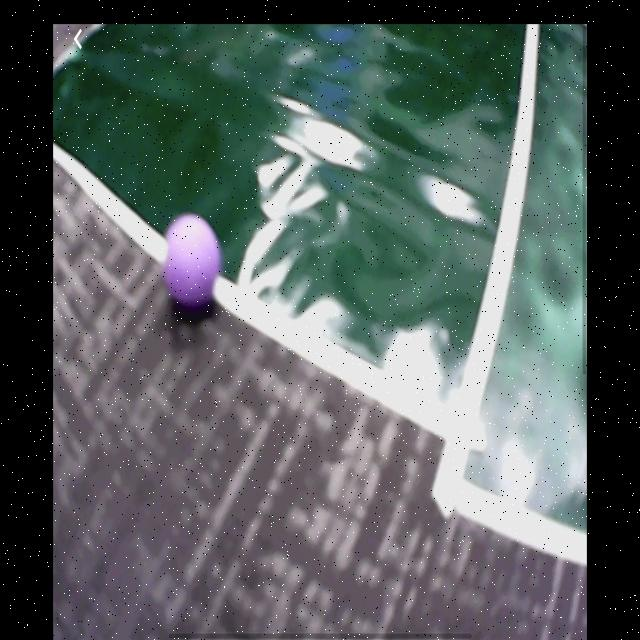ball: (164, 214, 224, 315)
